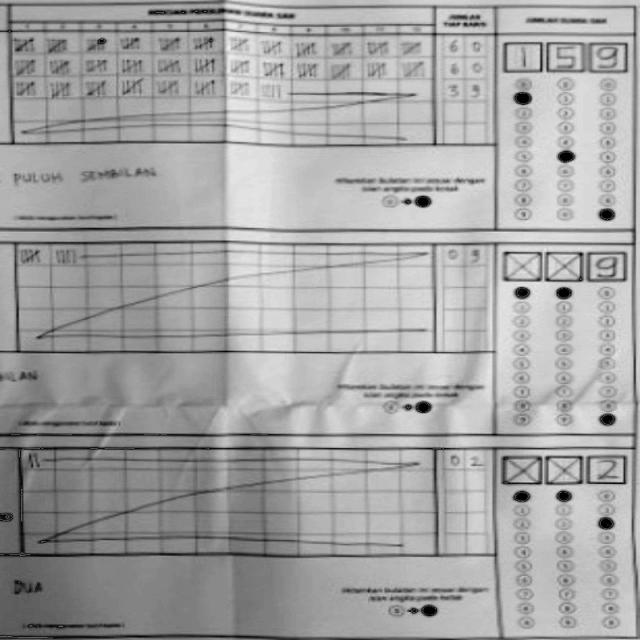Suara: (498, 38, 632, 78), (496, 245, 630, 284), (497, 448, 630, 487)
